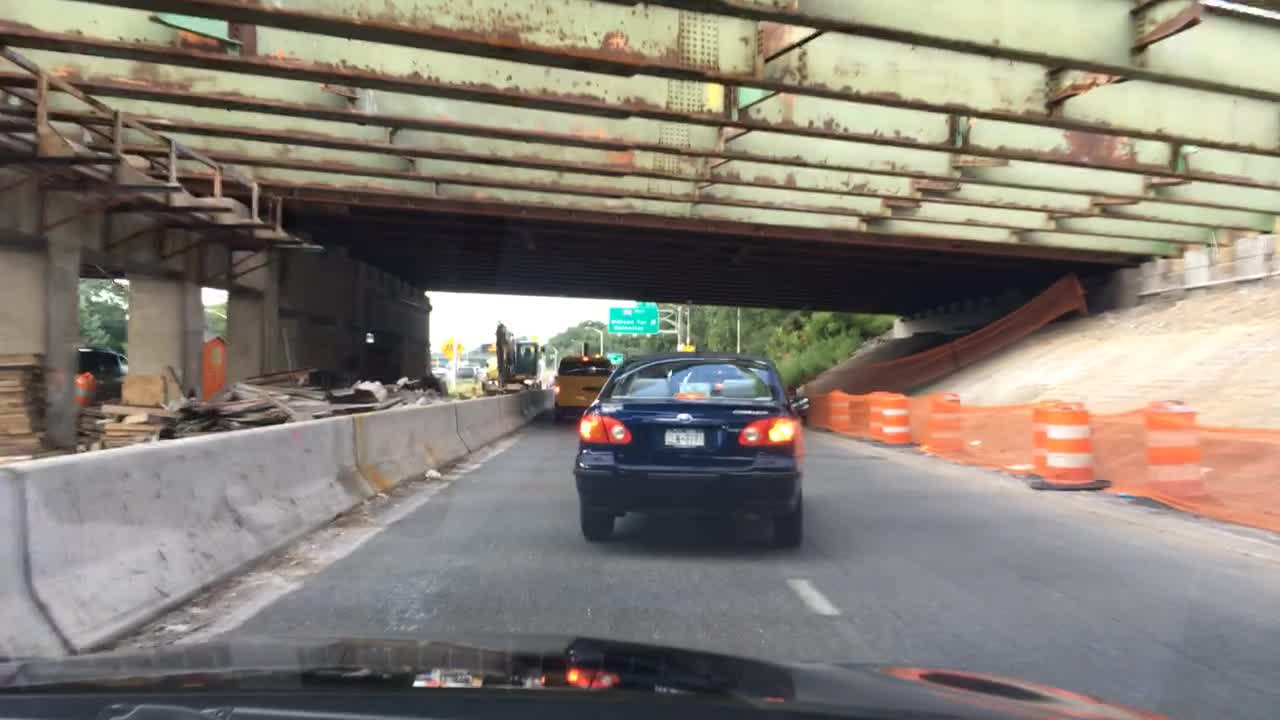car: (572, 352, 809, 542), (549, 353, 614, 422), (74, 345, 128, 403), (483, 369, 543, 394), (454, 355, 491, 378), (428, 365, 445, 378)
traffic sign: (605, 306, 660, 334), (608, 351, 625, 365), (677, 342, 694, 353), (442, 342, 453, 354), (484, 343, 496, 352), (454, 342, 463, 351)
